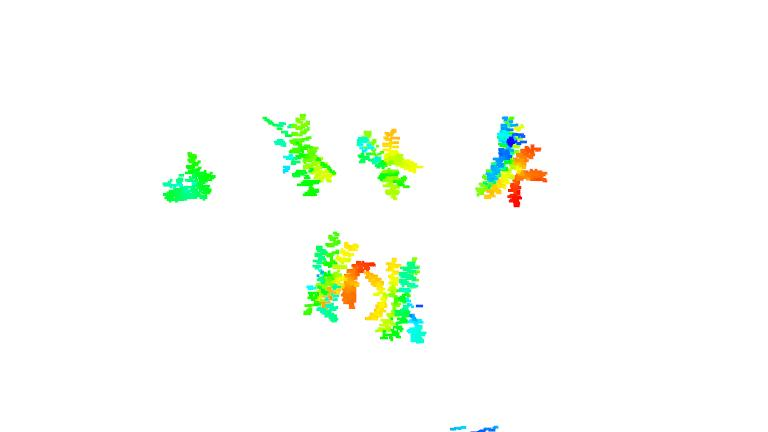chickpea: (477, 113, 548, 213), (262, 104, 330, 200), (301, 231, 371, 324), (367, 258, 429, 349), (356, 117, 420, 204), (159, 152, 216, 204)
